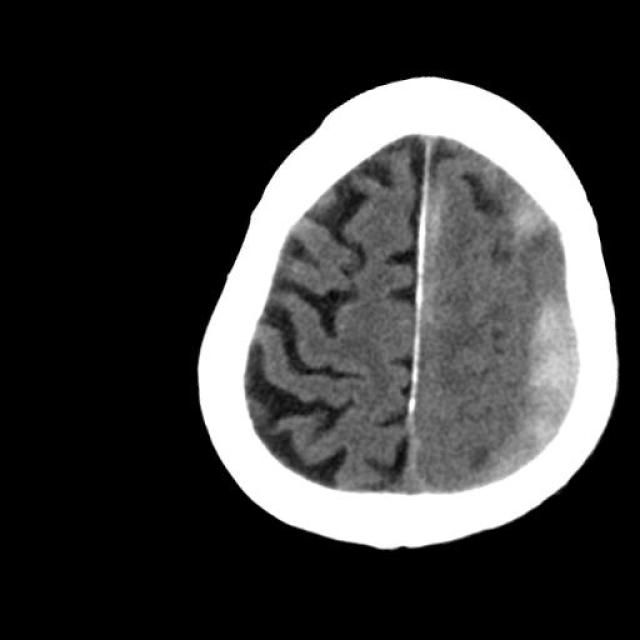Subdural: (425, 105, 640, 495)
